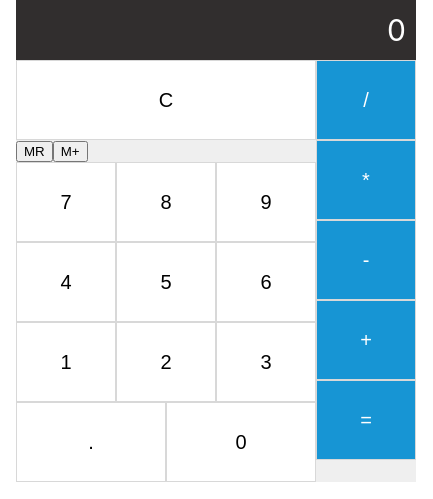
it: Calculator should display number selected selected
Click the button with test id "number9": (266,202) [216,162,316,242]
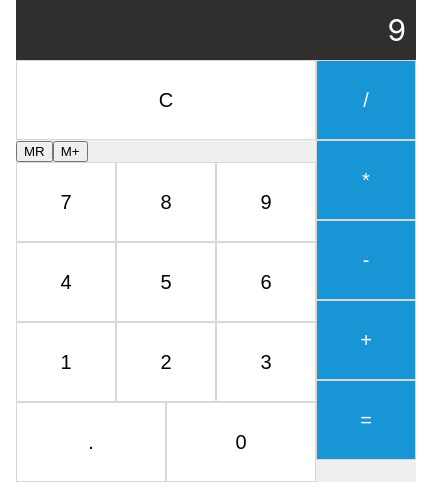
Check: the text with test id "calculator-display" reads "9", box [387,12,406,48]
